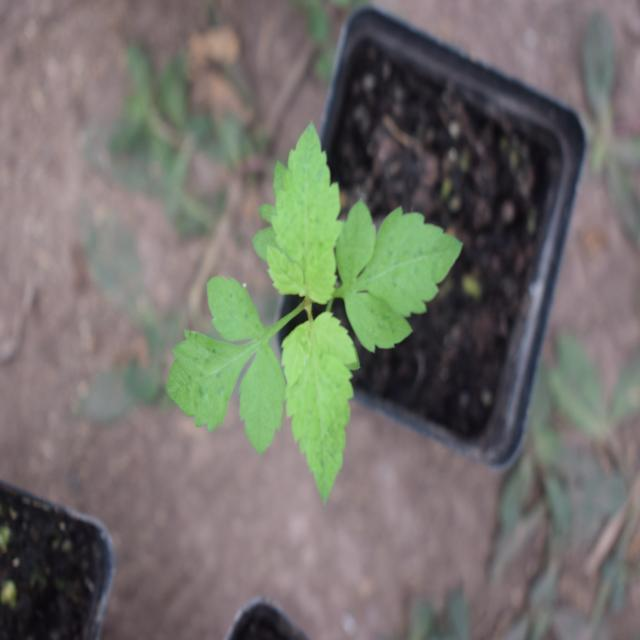Bidens pilosa: (143, 121, 467, 498)
